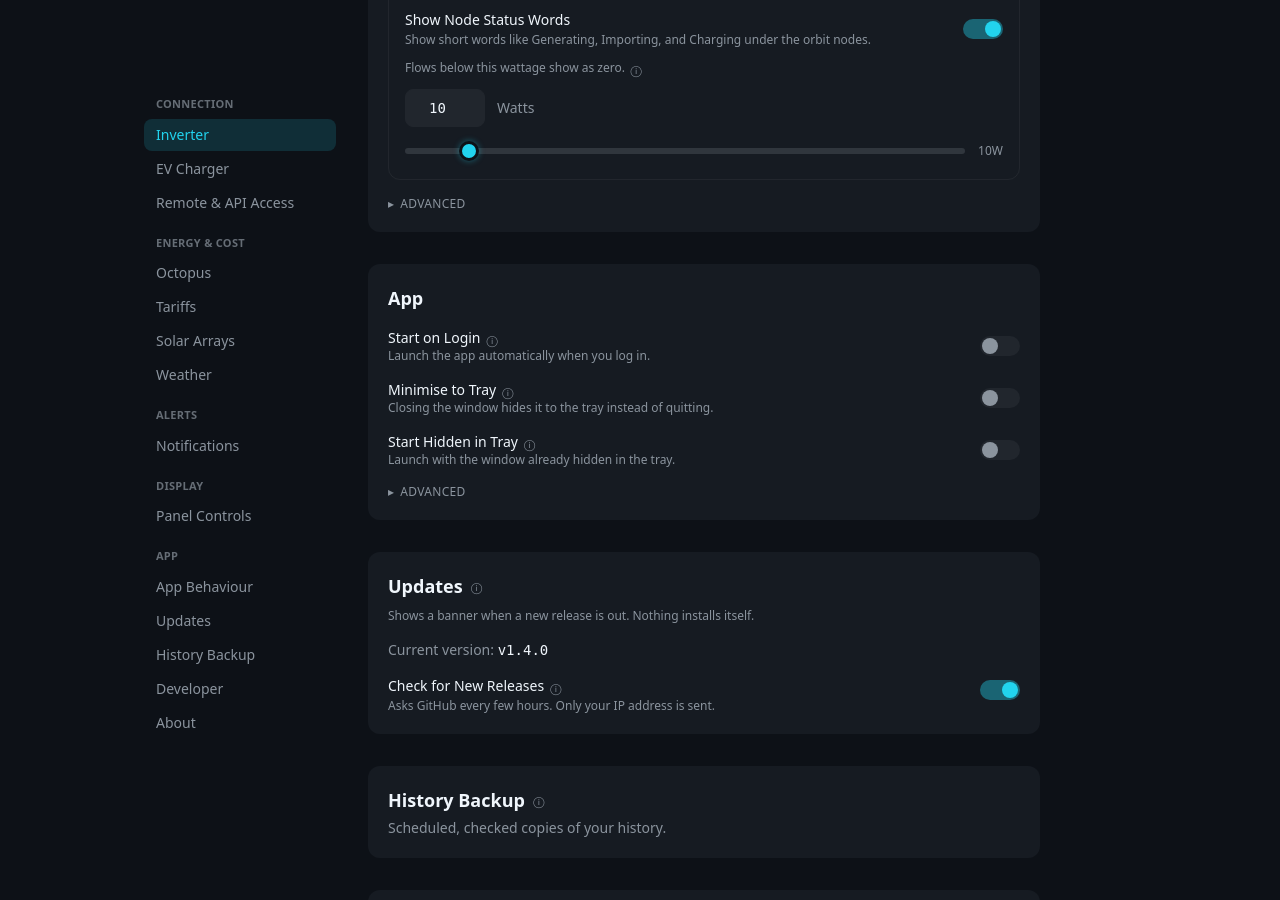
Scenario: <SettingsPage/> — Start on Login (Tauri shell) › puts Start Hidden in Tray back when the save fails
(page scrolled)
Expected: the text "Start Hidden in Tray" is shown, [388,432,518,451]
Click the switch named "Start Hidden in Tray" at {"x": 1000, "y": 450}, box [980,440,1020,460]
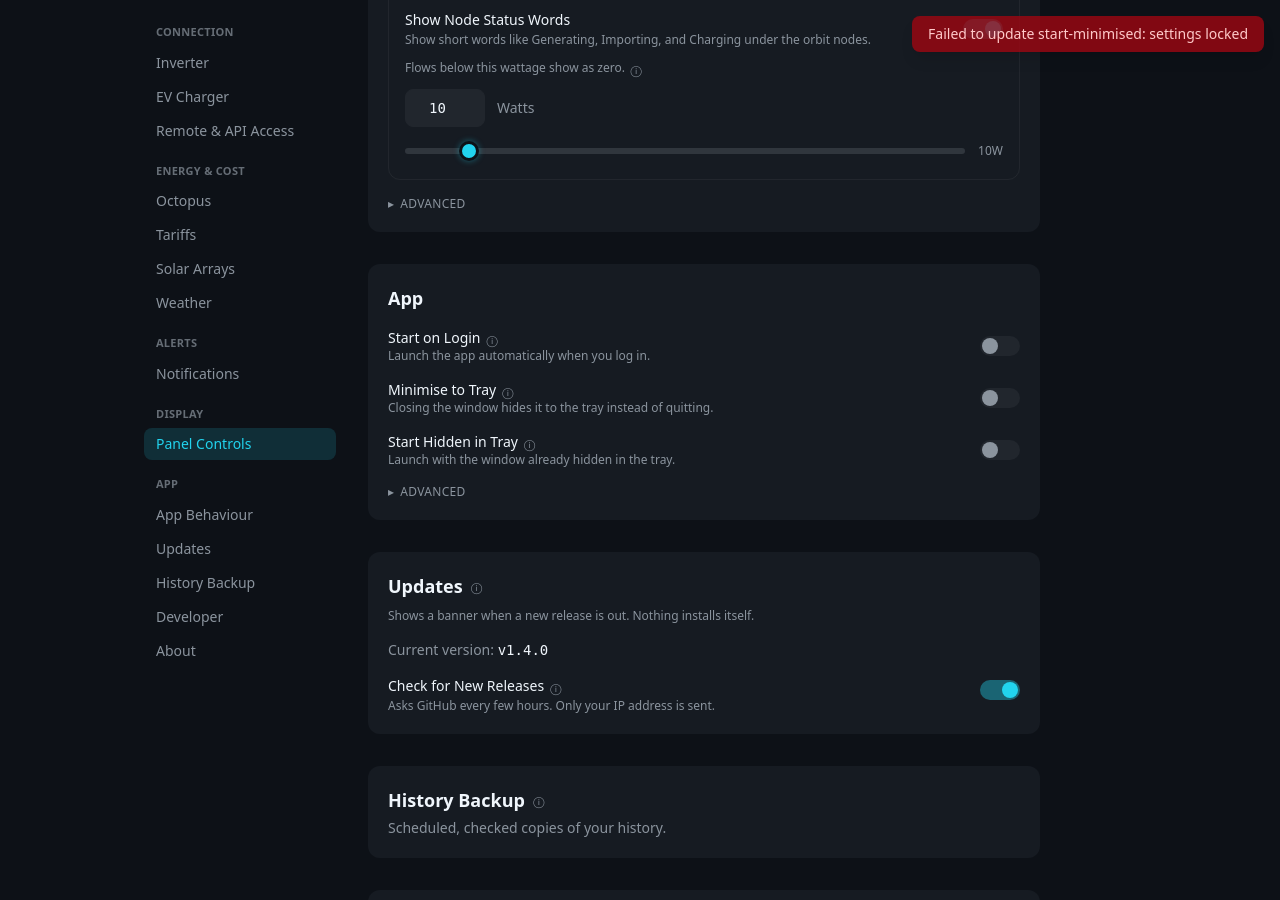
Result: the text "Failed to update start-minimised: settings locked" is shown at [912,16,1264,52]
